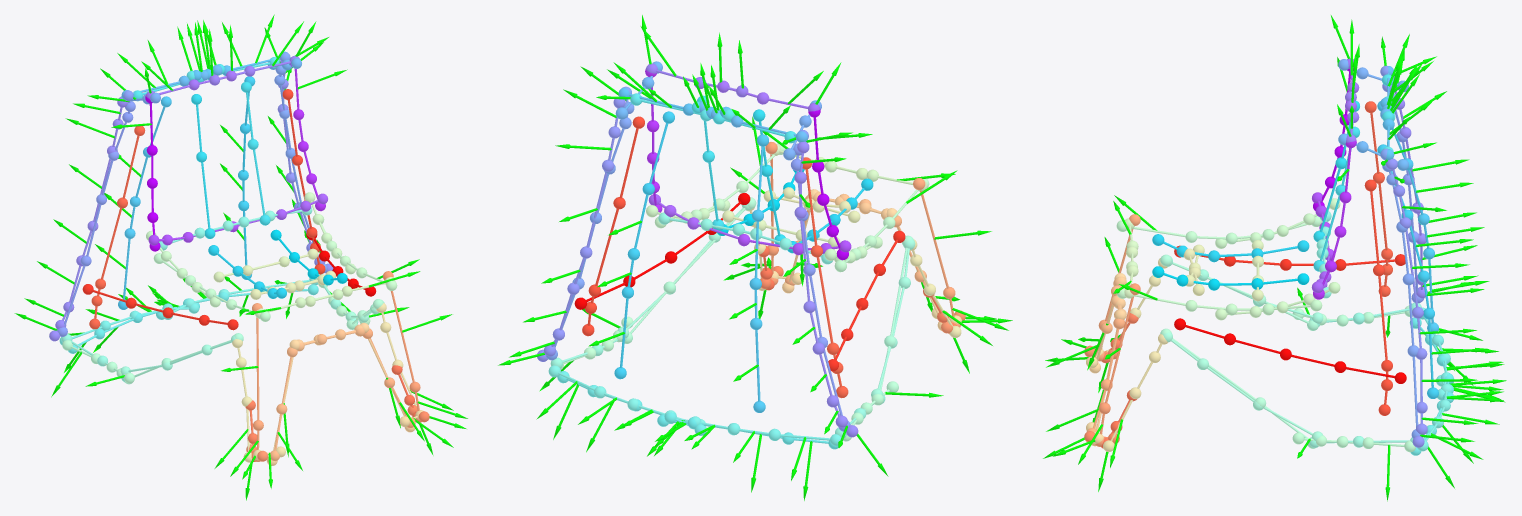
Rendered from author1_chair_ff.gltf.
3 views of the same model, side by side, from view 1: azimuth 30°, elevation 25°; view 2: azimuth 150°, elevation 25°; view 3: azimuth 270°, elevation 25° (orthographic). The views are drawn at different scales.
Size of the model in its own units: 0.6806 by 0.7299 by 0.7788.
